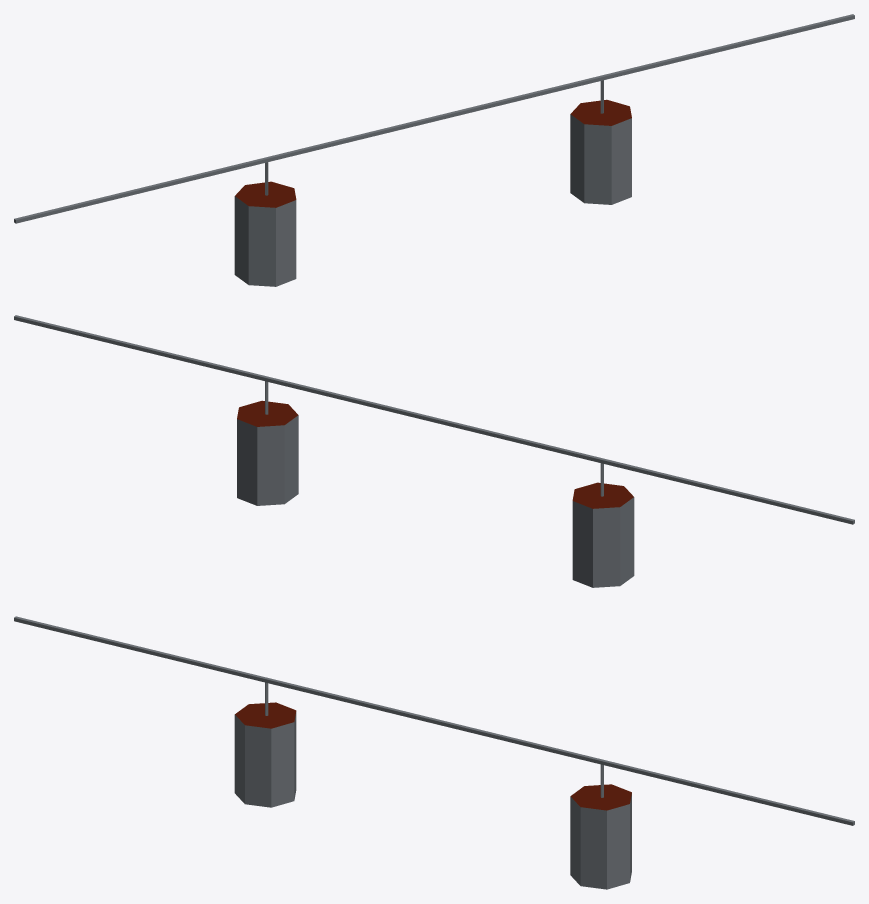
The model's file is SM_Int_Tripwire_Wire_1m.glb.
3 renders of one model, top to bottom at view 1: azimuth 30°, elevation 25°; view 2: azimuth 150°, elevation 25°; view 3: azimuth 330°, elevation 25°, orthographic.
Parts seen in each view (by area): view 1: SM_Int_Tripwire_Wire_1m; view 2: SM_Int_Tripwire_Wire_1m; view 3: SM_Int_Tripwire_Wire_1m.
Boxes of the visible parts, x1,y1,x2,y2 form: SM_Int_Tripwire_Wire_1m: [14, 14, 854, 286]; SM_Int_Tripwire_Wire_1m: [14, 315, 854, 587]; SM_Int_Tripwire_Wire_1m: [14, 616, 854, 889].
Size of the model in its own units: 1 by 0.132 by 0.0643.
Materials: 1 (1 with a texture image).
